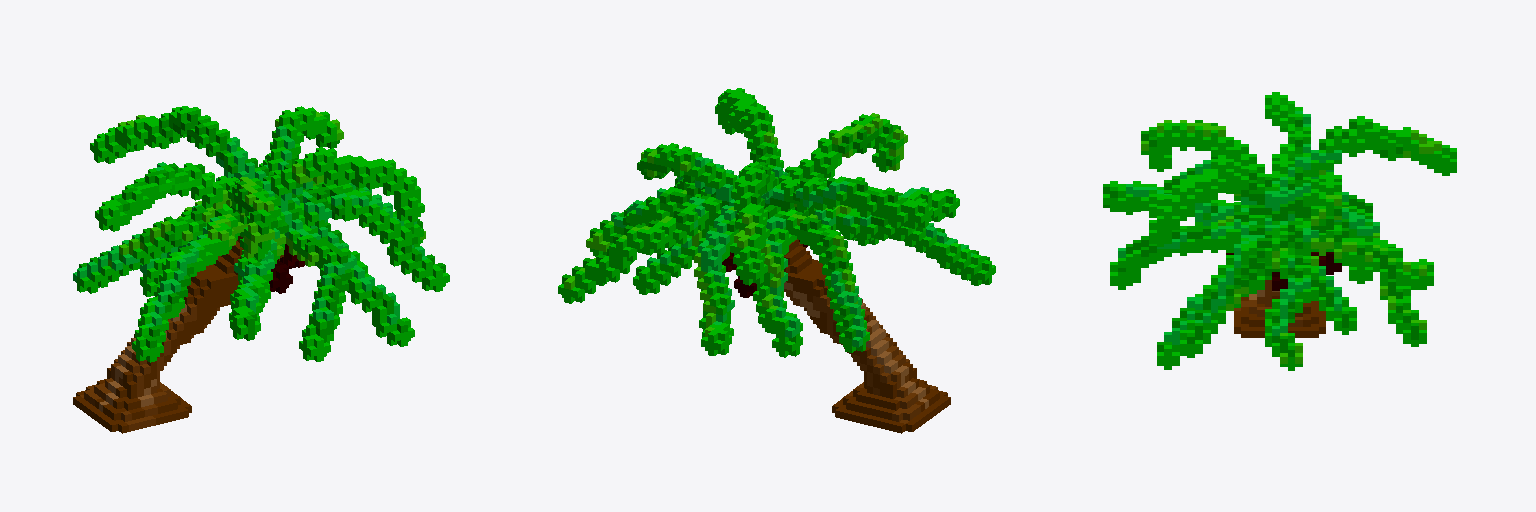
The picture shows the model from 3 angles: view 1: azimuth 30°, elevation 25°; view 2: azimuth 150°, elevation 25°; view 3: azimuth 270°, elevation 25°; orthographic projection.
Size of the model in its own units: 51 by 35 by 46.
1 materials, 1 textured.